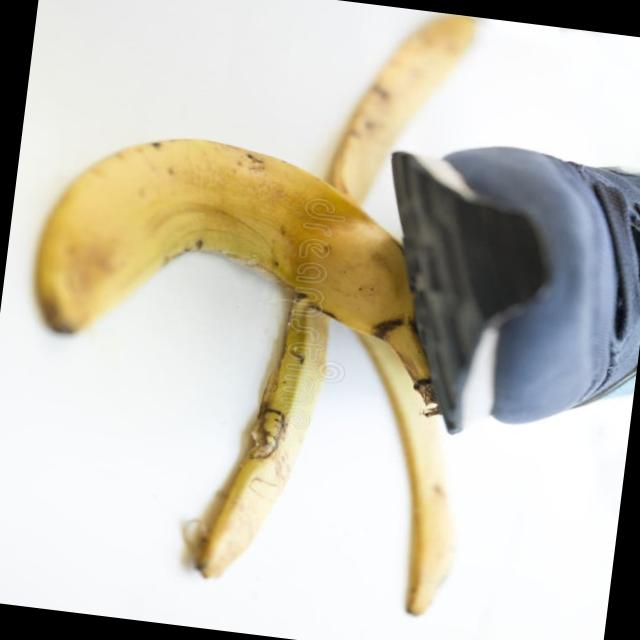banana_peel: (0, 117, 477, 629)
